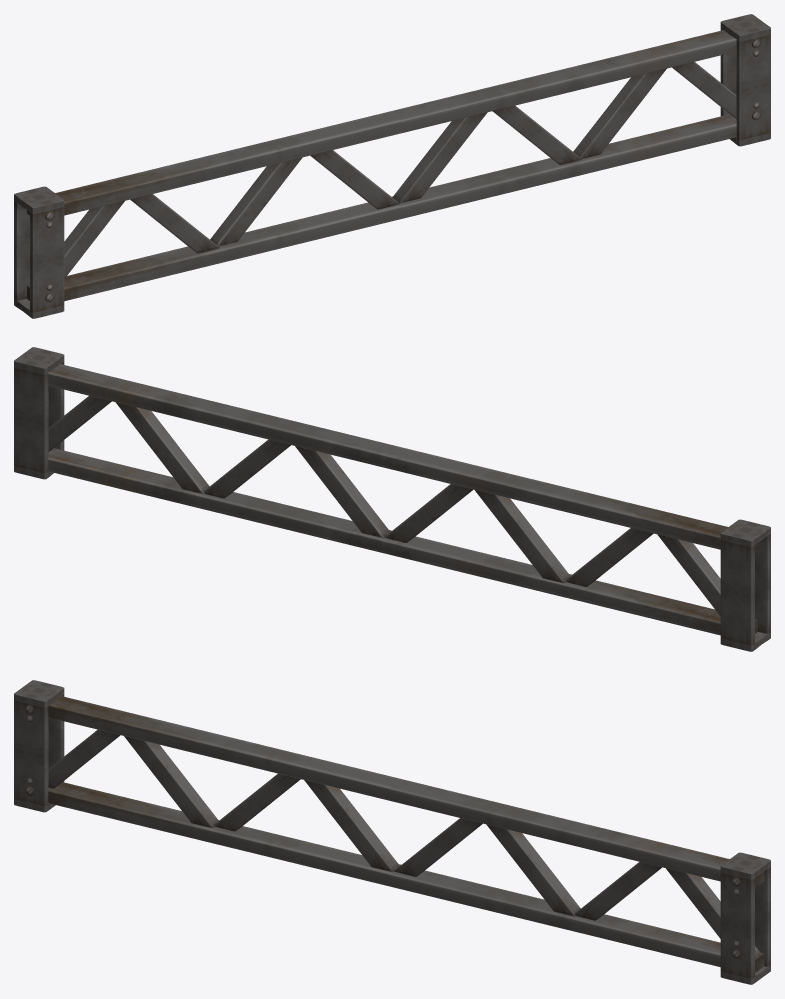
File: Metal Beam.fbx
The picture shows the model from 3 angles, top to bottom: view 1: azimuth 30°, elevation 25°; view 2: azimuth 150°, elevation 25°; view 3: azimuth 330°, elevation 25°; orthographic projection.
Parts seen in each view (by area): view 1: MeatlBeam2, MeatlBeam1, MetalBeam_Connector6, MetalBeam_Connector7, MeatlBeam_DiagonalPiece6, MeatlBeam_DiagonalPiece8, MeatlBeam_DiagonalPiece4, MeatlBeam_DiagonalPiece5, MeatlBeam_DiagonalPiece7, MeatlBeam_DiagonalPiece3, MeatlBeam_DiagonalPiece1, MeatlBeam_DiagonalPiece9; view 2: MeatlBeam2, MeatlBeam1, MetalBeam_Connector6, MetalBeam_Connector7, MeatlBeam_DiagonalPiece4, MeatlBeam_DiagonalPiece6, MeatlBeam_DiagonalPiece8, MeatlBeam_DiagonalPiece1, MeatlBeam_DiagonalPiece5, MeatlBeam_DiagonalPiece3, MeatlBeam_DiagonalPiece7, MeatlBeam_DiagonalPiece9; view 3: MeatlBeam2, MeatlBeam1, MetalBeam_Connector7, MetalBeam_Connector6, MeatlBeam_DiagonalPiece5, MeatlBeam_DiagonalPiece3, MeatlBeam_DiagonalPiece7, MeatlBeam_DiagonalPiece6, MeatlBeam_DiagonalPiece8, MeatlBeam_DiagonalPiece4, MeatlBeam_DiagonalPiece9, MeatlBeam_DiagonalPiece1.
Boxes of the visible parts, x1,y1,x2,y2 form: MeatlBeam2: (27,30,736,215); MeatlBeam1: (27,114,736,301); MetalBeam_Connector6: (14,186,64,318); MetalBeam_Connector7: (720,14,770,146); MeatlBeam_DiagonalPiece6: (392,112,487,203); MeatlBeam_DiagonalPiece8: (573,68,666,158); MeatlBeam_DiagonalPiece4: (210,157,302,246); MeatlBeam_DiagonalPiece5: (310,150,399,209); MeatlBeam_DiagonalPiece7: (492,105,581,164); MeatlBeam_DiagonalPiece3: (130,194,219,253); MeatlBeam_DiagonalPiece1: (29,201,124,286); MeatlBeam_DiagonalPiece9: (672,62,736,118); MeatlBeam2: (48,364,757,549); MeatlBeam1: (48,448,757,635); MetalBeam_Connector6: (720,519,770,651); MetalBeam_Connector7: (14,347,64,479); MeatlBeam_DiagonalPiece4: (475,490,570,582); MeatlBeam_DiagonalPiece6: (295,446,390,537); MeatlBeam_DiagonalPiece8: (116,402,209,493); MeatlBeam_DiagonalPiece1: (657,534,720,615); MeatlBeam_DiagonalPiece5: (384,484,473,542); MeatlBeam_DiagonalPiece3: (566,528,653,586); MeatlBeam_DiagonalPiece7: (204,439,290,498); MeatlBeam_DiagonalPiece9: (48,395,111,451); MeatlBeam2: (48,696,764,887); MeatlBeam1: (48,782,764,972); MetalBeam_Connector7: (720,852,770,984); MetalBeam_Connector6: (14,680,64,812); MeatlBeam_DiagonalPiece5: (304,780,399,871); MeatlBeam_DiagonalPiece3: (124,736,218,827); MeatlBeam_DiagonalPiece7: (486,824,580,916); MeatlBeam_DiagonalPiece6: (394,818,482,876); MeatlBeam_DiagonalPiece8: (575,862,661,920); MeatlBeam_DiagonalPiece4: (214,773,300,831); MeatlBeam_DiagonalPiece9: (666,868,761,959); MeatlBeam_DiagonalPiece1: (48,729,120,788).
Bounding box in the file's own units: 281 × 40.29 × 13.43.
